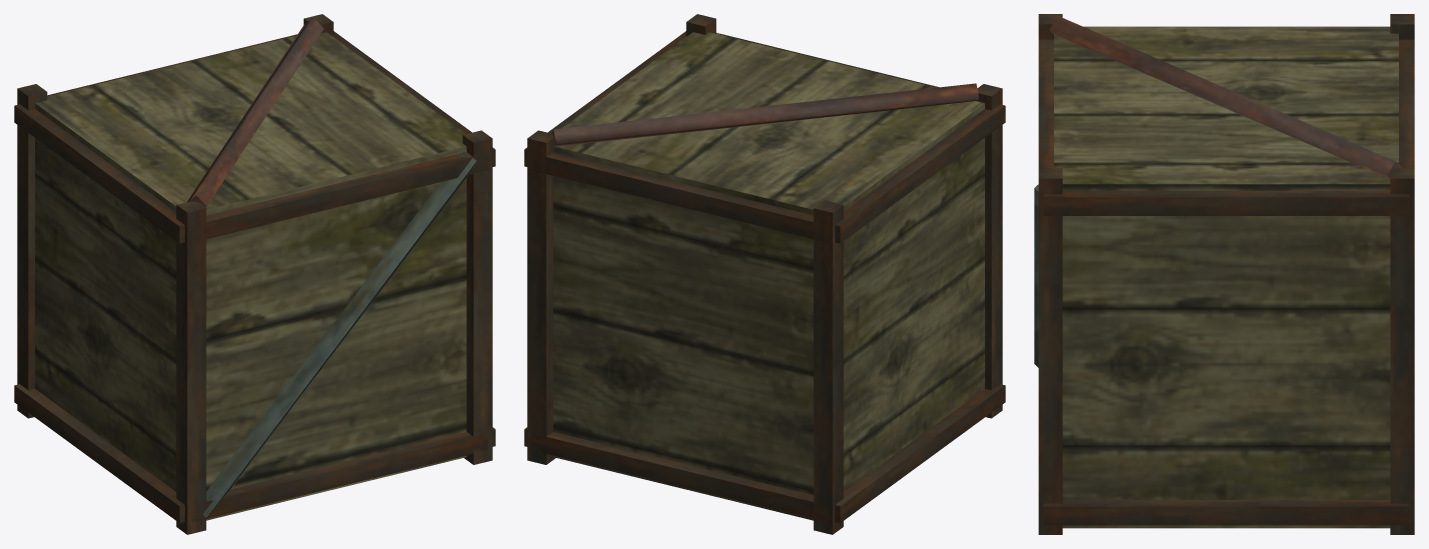
Rendered from Crate_Wood.glb.
The picture shows the model from 3 angles, left to right: view 1: azimuth 30°, elevation 25°; view 2: azimuth 150°, elevation 25°; view 3: azimuth 270°, elevation 25°; orthographic projection. The views are drawn at different scales.
Parts seen in each view (by area): view 1: Crate_Wood; view 2: Crate_Wood; view 3: Crate_Wood.
Boxes of the visible parts, x1,y1,x2,y2 form: Crate_Wood: [14, 14, 495, 534]; Crate_Wood: [524, 14, 1005, 534]; Crate_Wood: [1034, 14, 1414, 534].
Size of the model in its own units: 1.17 by 1.16 by 1.1.
1 material, 1 textured.
